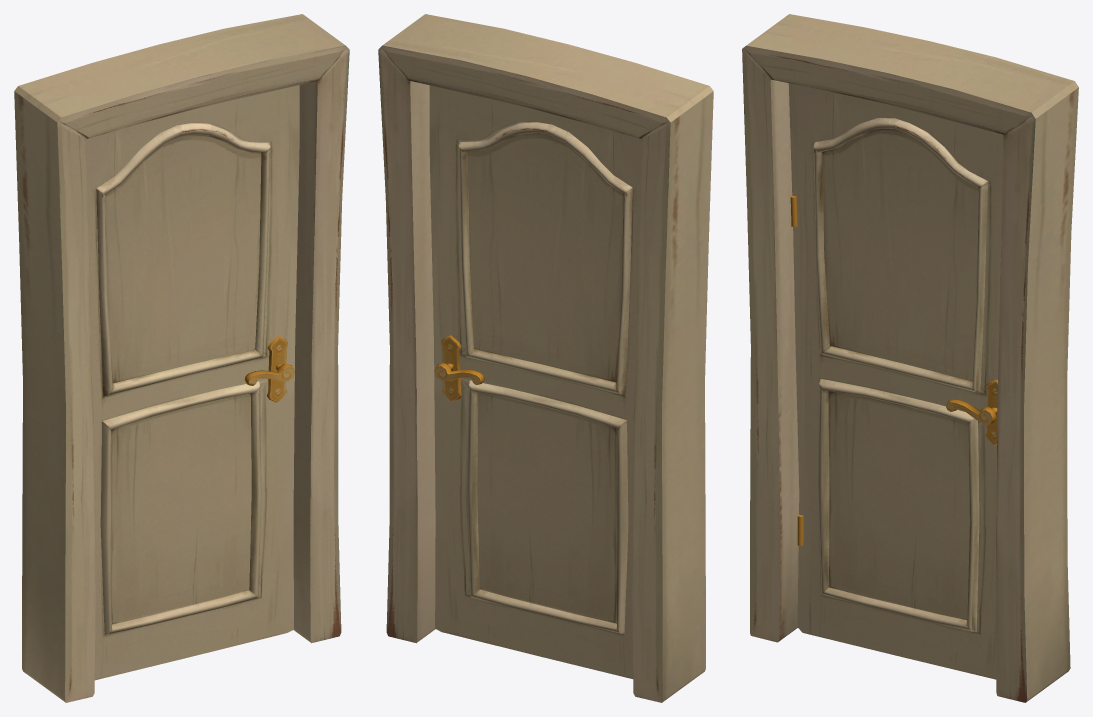
Rendered from door.glb.
3 renders of one model, left to right at view 1: azimuth 30°, elevation 25°; view 2: azimuth 150°, elevation 25°; view 3: azimuth 330°, elevation 25°, orthographic.
Visible parts, largest first — view 1: double_door_r, door_border; view 2: double_door_r, door_border; view 3: double_door_r, door_border.
Boxes of the visible parts, x1,y1,x2,y2 form: double_door_r: (85,85,299,680); door_border: (14,14,349,702); double_door_r: (429,85,642,678); door_border: (378,14,713,702); double_door_r: (788,83,1003,679); door_border: (742,14,1078,702).
Size of the model in its own units: 1.14 by 2.21 by 0.2904.
2 materials, 2 textured.
